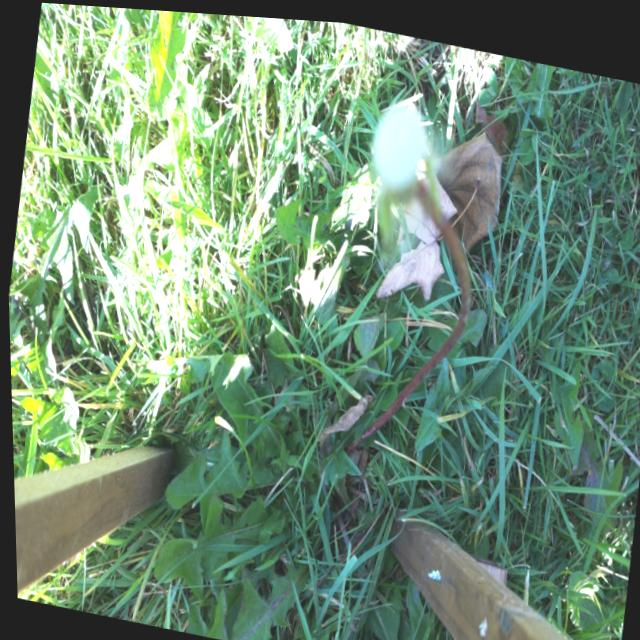base: (337, 414, 373, 462)
